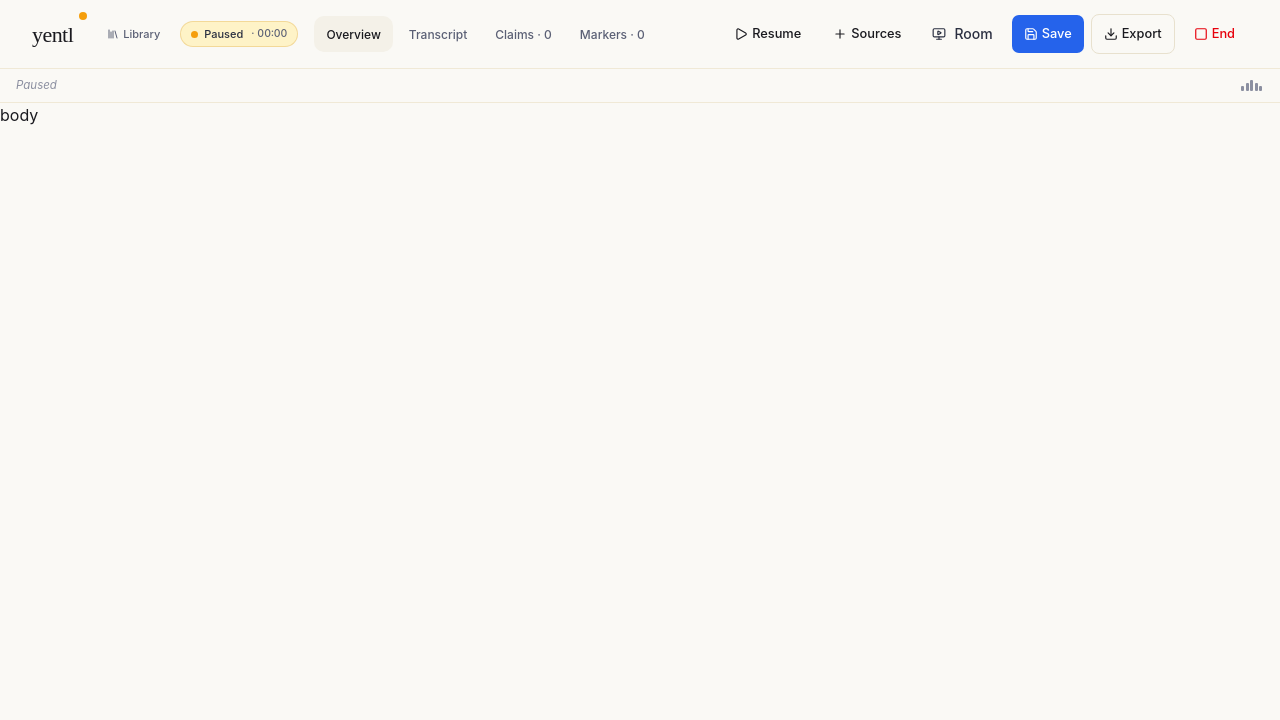
Test: Save button — SessionShell › dialog contains a name input pre-filled with session title
Click the button "Save" at [1048, 34], box [1011,14,1085,54]
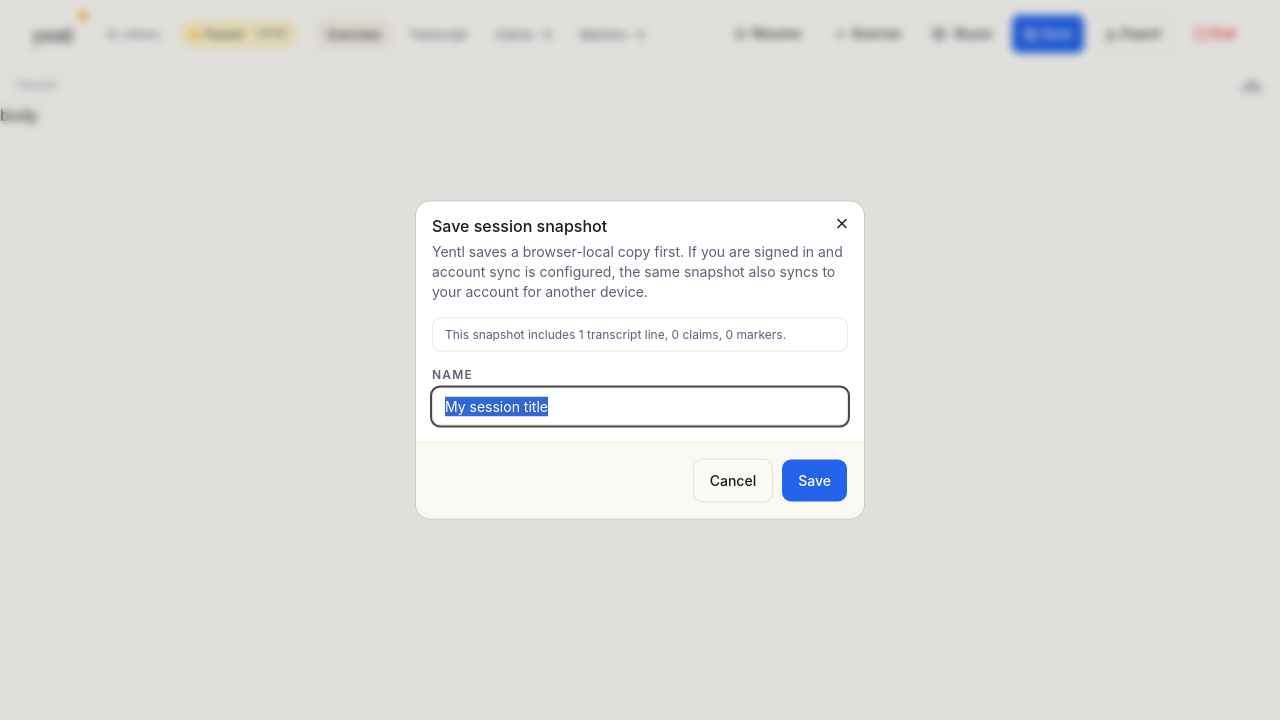
Check: the field named "Session name" is shown, box [432,388,848,426]
